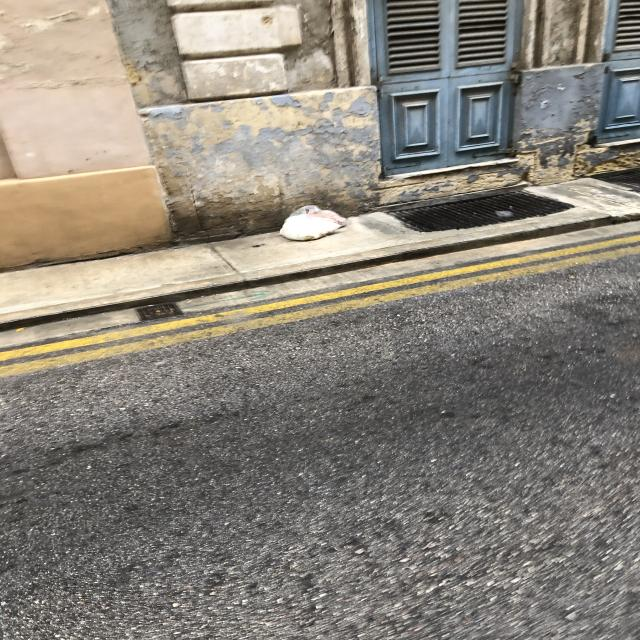Organic Waste -White Bag-: (279, 206, 349, 244)
